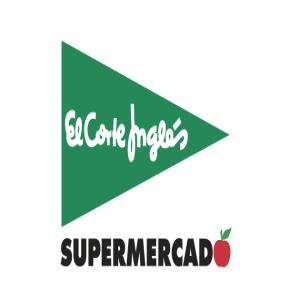corte_ingles: (63, 85, 190, 170)
